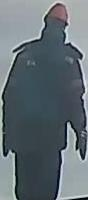gloves: (74, 131, 88, 161)
helmet: (42, 0, 69, 27)
vest: (13, 46, 68, 152)
